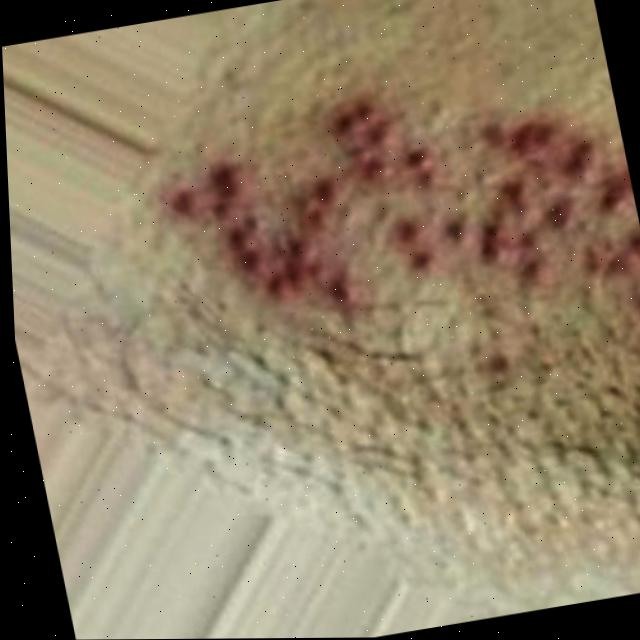Shingles: (134, 63, 640, 378)
